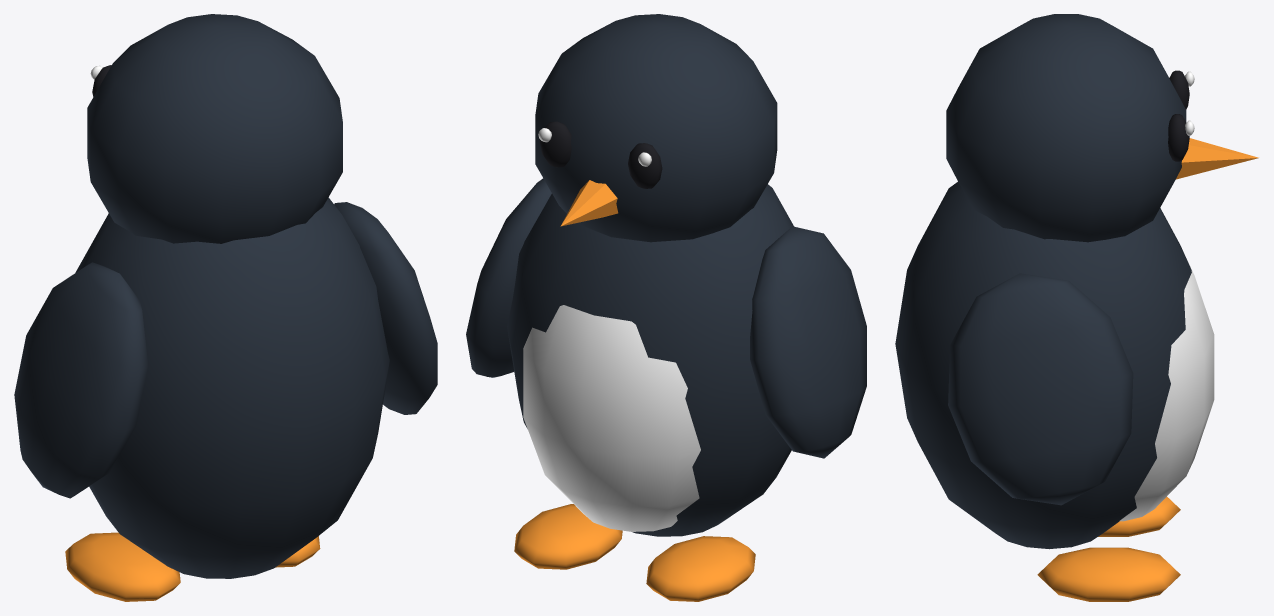
File: Penguin.glb
The picture shows the model from 3 angles, left to right: view 1: azimuth 30°, elevation 25°; view 2: azimuth 150°, elevation 25°; view 3: azimuth 270°, elevation 25°; orthographic projection. The views are drawn at different scales.
Visible parts, largest first — view 1: Penguin; view 2: Penguin; view 3: Penguin.
Boxes of the visible parts, <box> form: Penguin: <box>14,14,437,601</box>; Penguin: <box>466,14,866,601</box>; Penguin: <box>895,14,1258,601</box>.
Size of the model in its own units: 2.45 by 3.45 by 2.13.
Materials: 1 (1 with a texture image).
